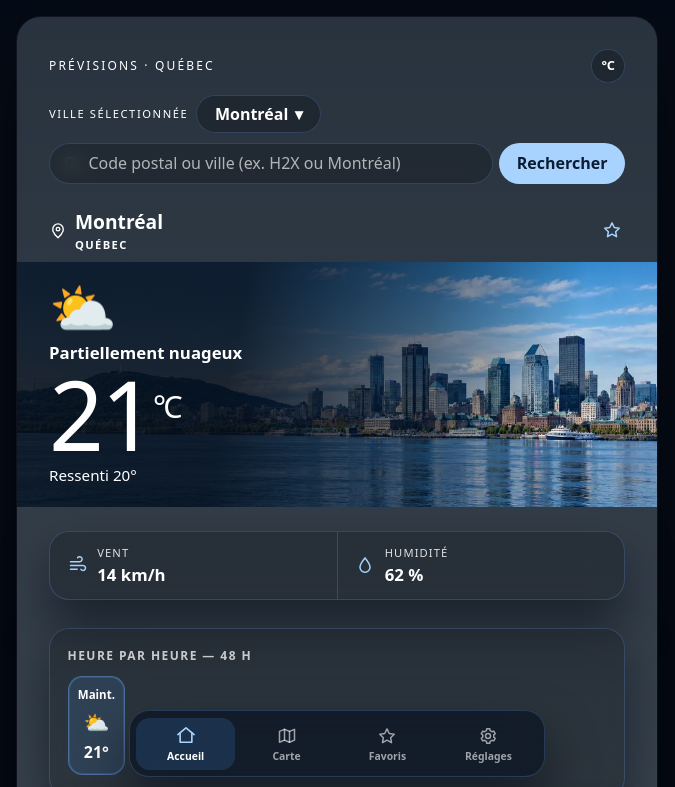
Test: App — liste des villes › garde la liste de repli quand le backend ne répond pas
The width and height of the screenshot is (675, 787).
Expected: the text "Partiellement nuageux" is shown, 49,341 -> 242,364
Click the button with aria-label "Choisir une ville": click(259, 114) 196,95 -> 321,133
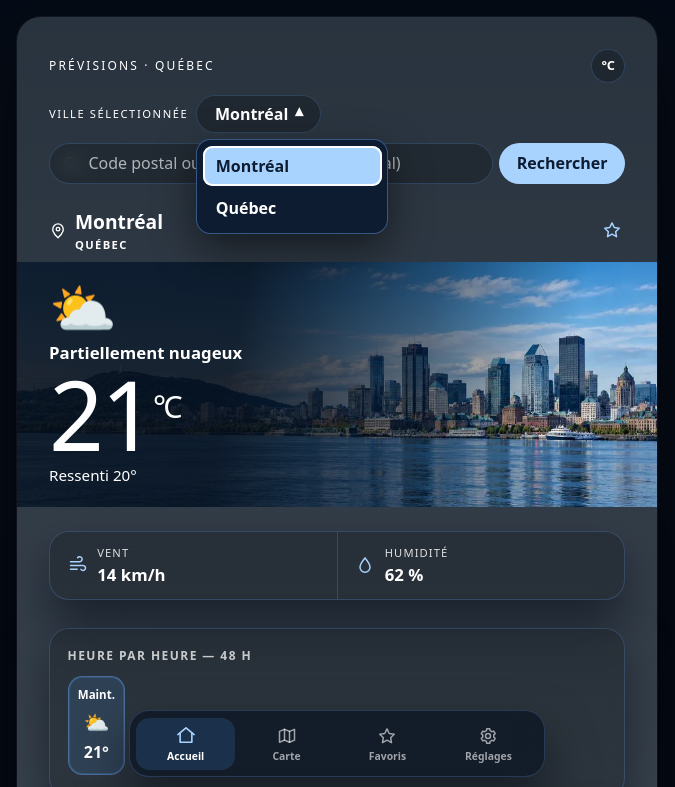
Result: the menu item "Montréal" is shown at 203,146 -> 382,186
Result: the menu item "Québec" is shown at 203,188 -> 382,228
